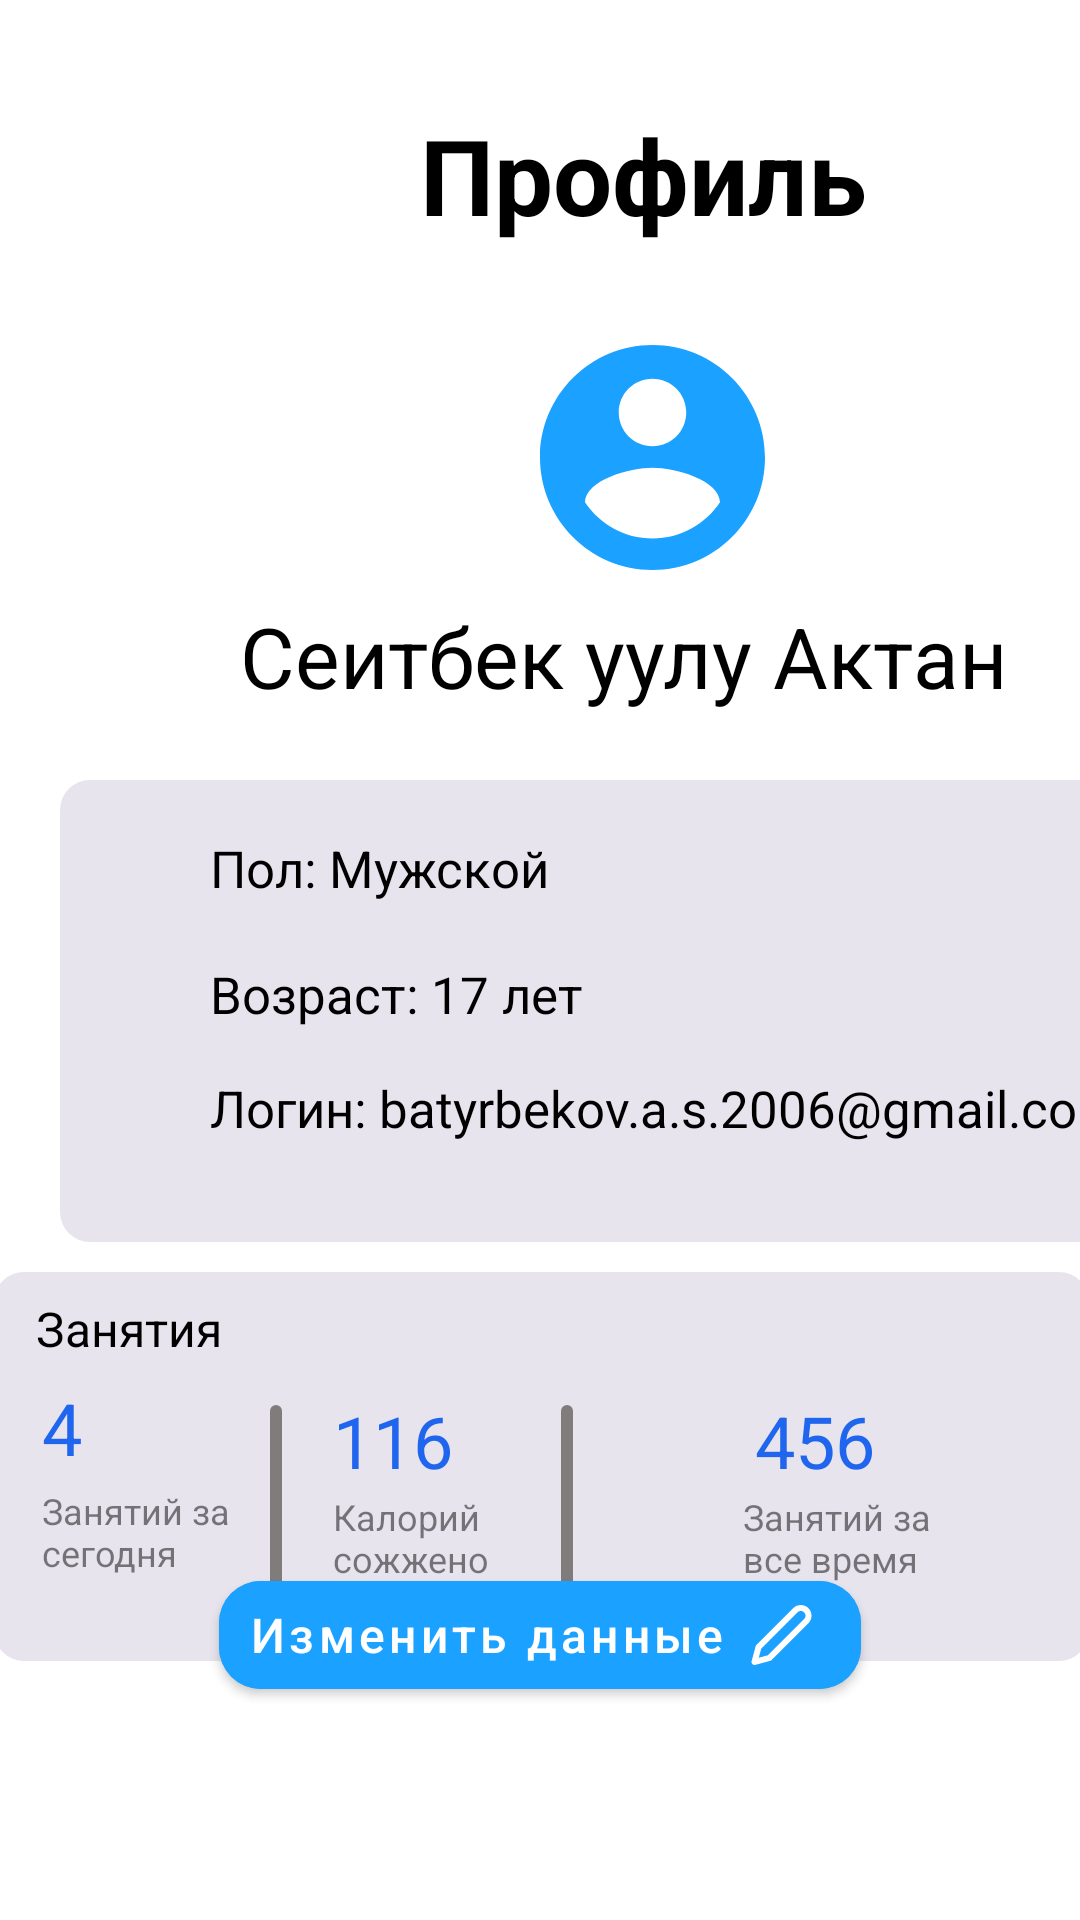

Screen size 1080x1920. Icon name, then its box in pixels as (x1, y1, x2, y2):
man: (540, 345, 765, 570)
